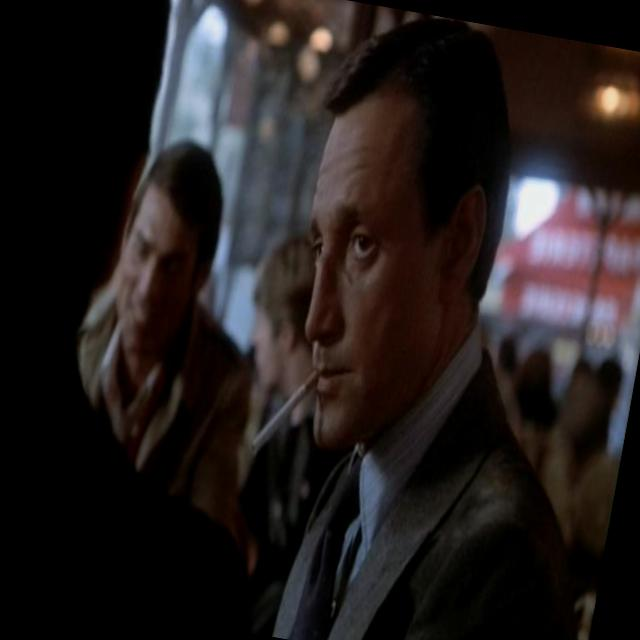smoke: (238, 344, 328, 474)
